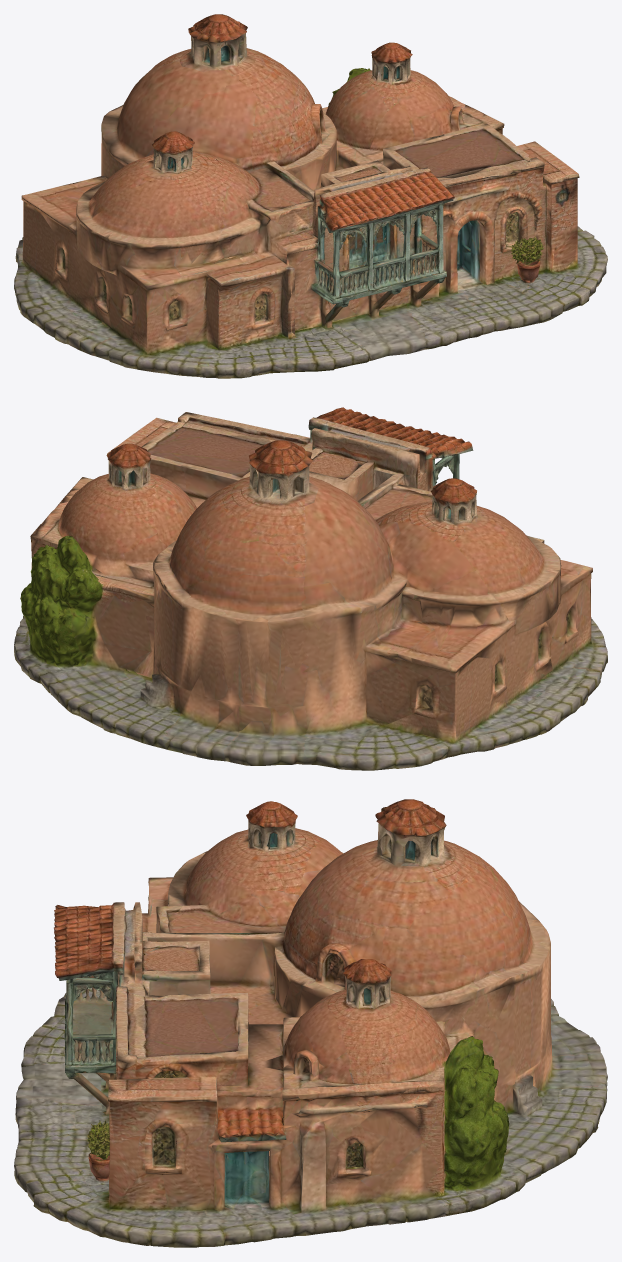
File: m_tb_baths.glb
The picture shows the model from 3 angles, top to bottom: view 1: azimuth 30°, elevation 25°; view 2: azimuth 150°, elevation 25°; view 3: azimuth 270°, elevation 25°; orthographic projection. The views are drawn at different scales.
Bounding box in the file's own units: 0.9985 × 0.4358 × 0.8373.
Materials: 1 (1 with a texture image).
